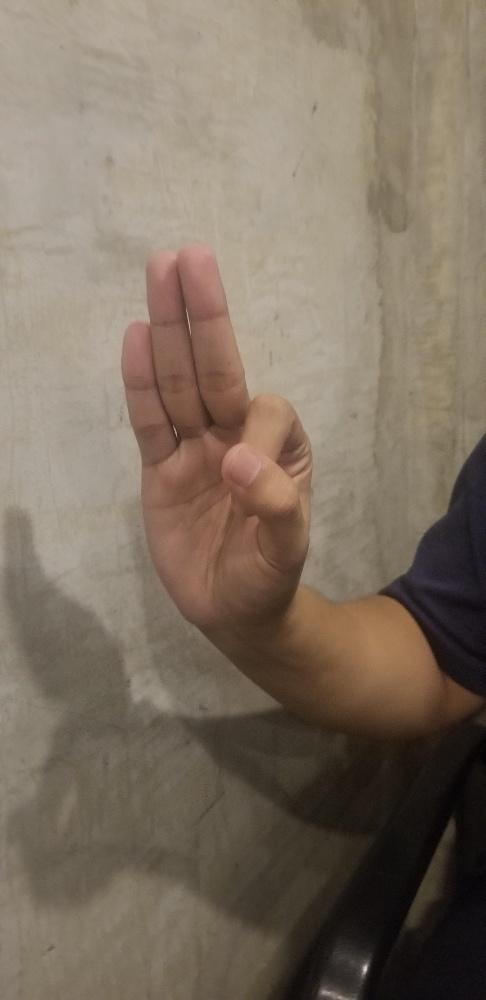f: (118, 240, 310, 629)
